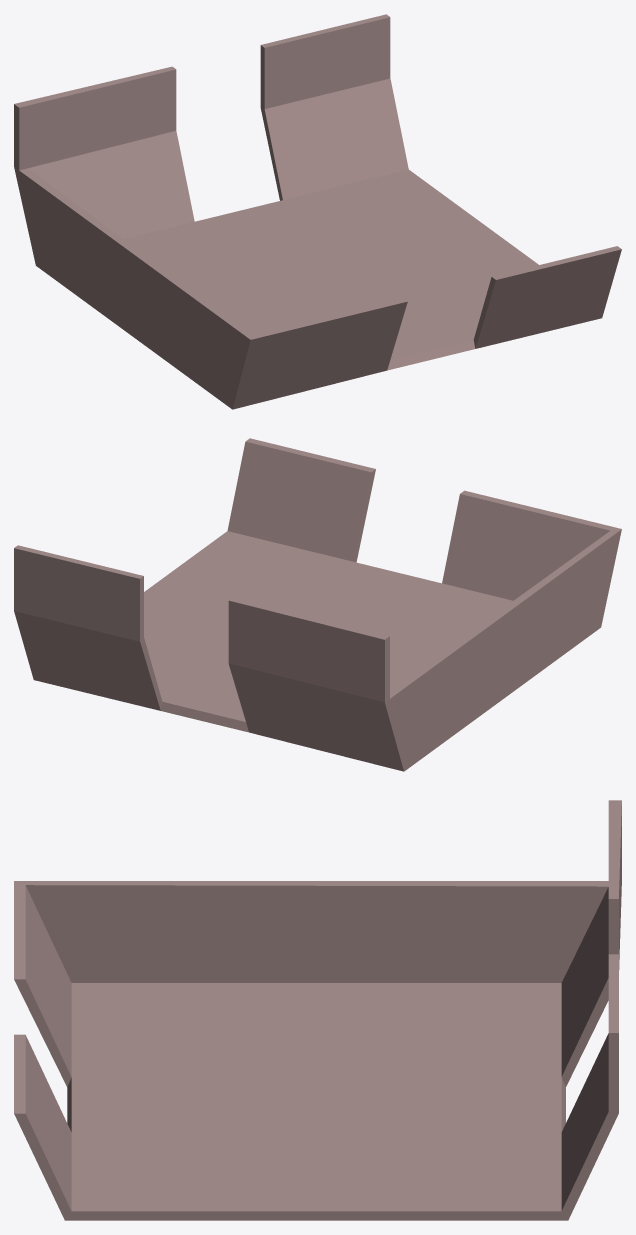
The model's file is Room_1_LP.fbx.
3 renders of one model, top to bottom at view 1: azimuth 30°, elevation 25°; view 2: azimuth 150°, elevation 25°; view 3: azimuth 270°, elevation 25°, orthographic. The views are drawn at different scales.
Visible parts, largest first — view 1: pCube10; view 2: pCube10; view 3: pCube10.
Part boxes in pixels (x1,y1,x2,y2): pCube10: (14, 14, 621, 409); pCube10: (14, 438, 621, 771); pCube10: (14, 800, 621, 1220).
Bounding box in the file's own units: 2503 × 947 × 2764.
